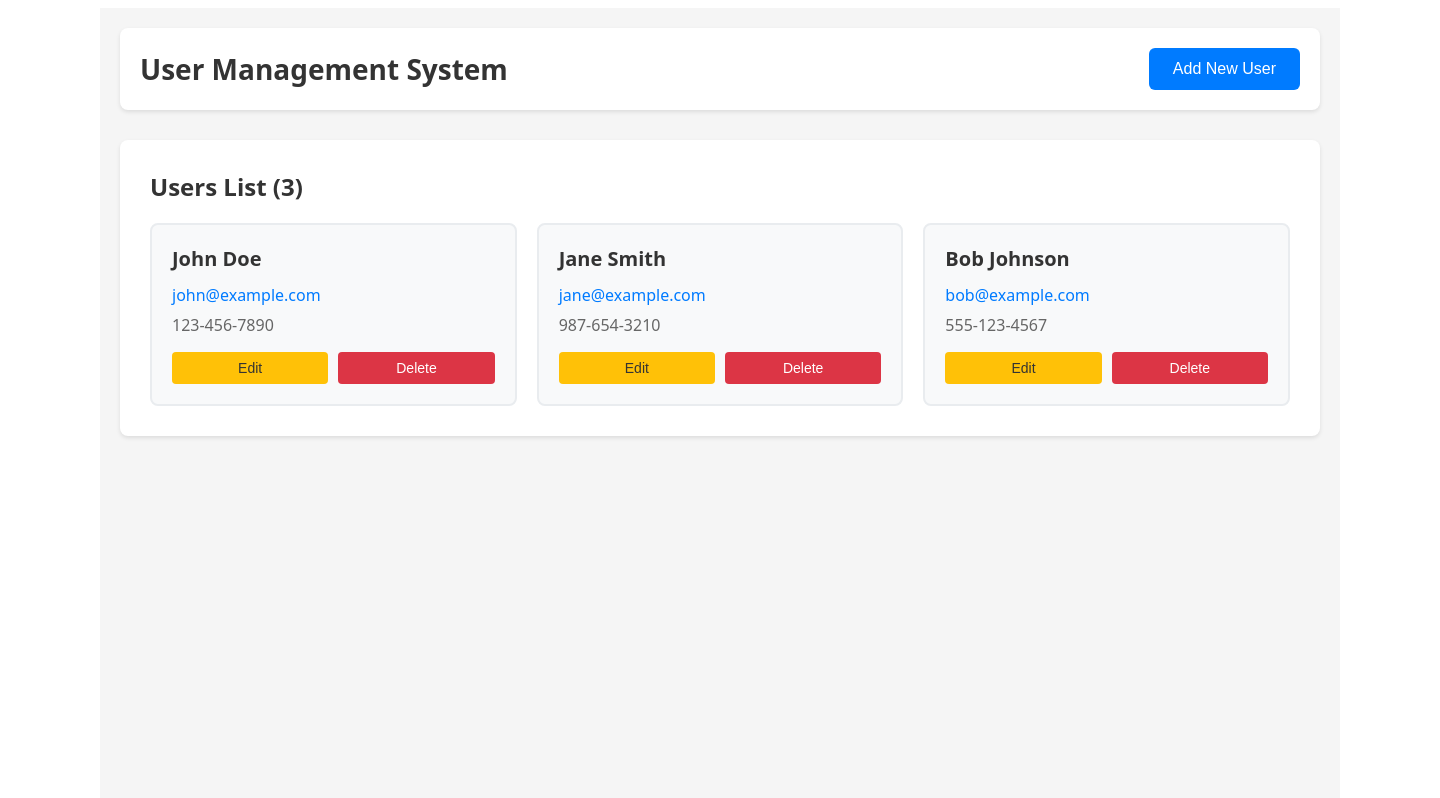
Test: Home Component › shows add user form when Add New User is clicked
Note: Click the button (not the heading)
Click the button "Add New User" at (1224, 69), box top-left (1149, 48), bottom-right (1300, 90)
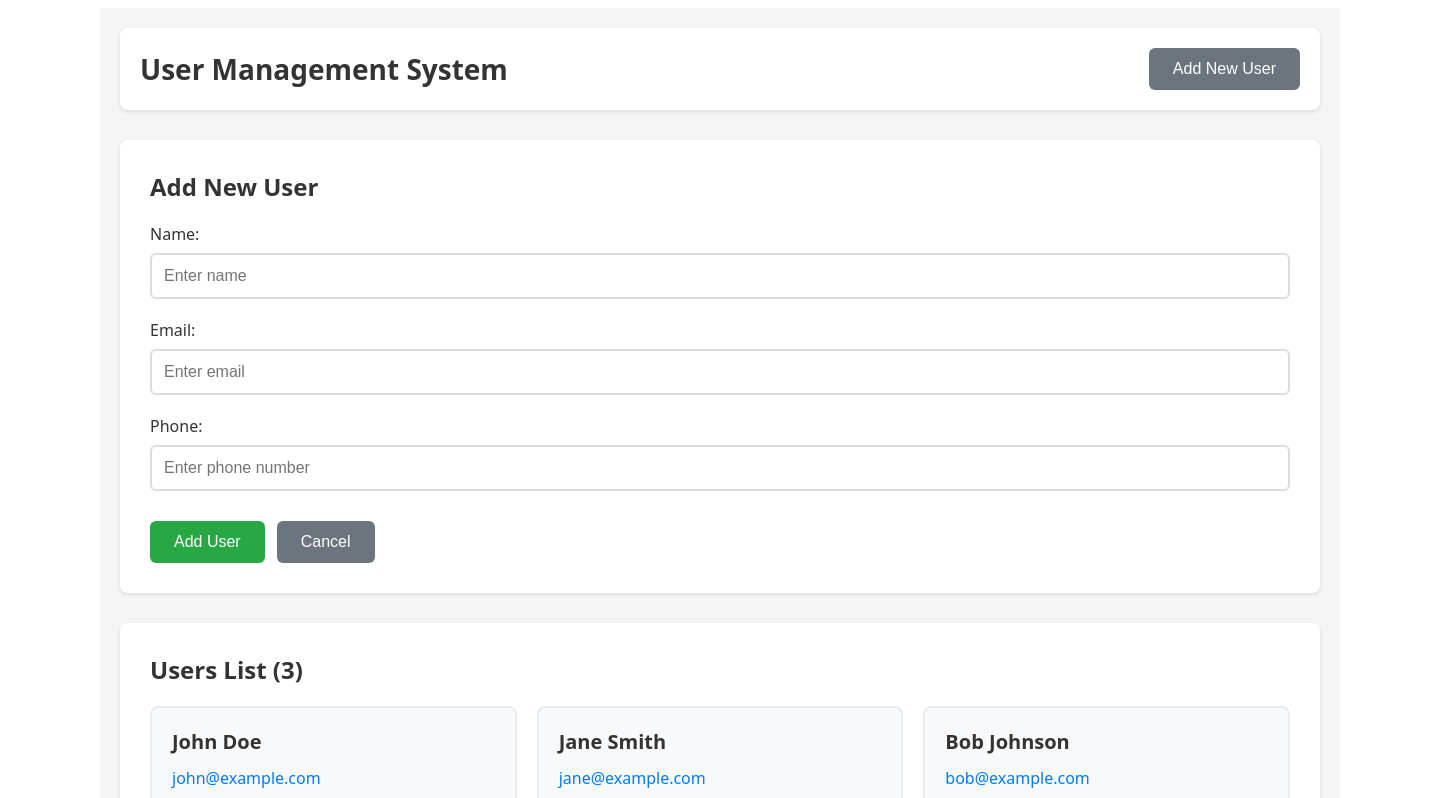
Expected: the heading "Add New User" is shown, top-left (150, 170), bottom-right (318, 203)
Expected: the field labelled "Name:" is shown, top-left (150, 253), bottom-right (1290, 299)
Expected: the field labelled "Email:" is shown, top-left (150, 349), bottom-right (1290, 395)
